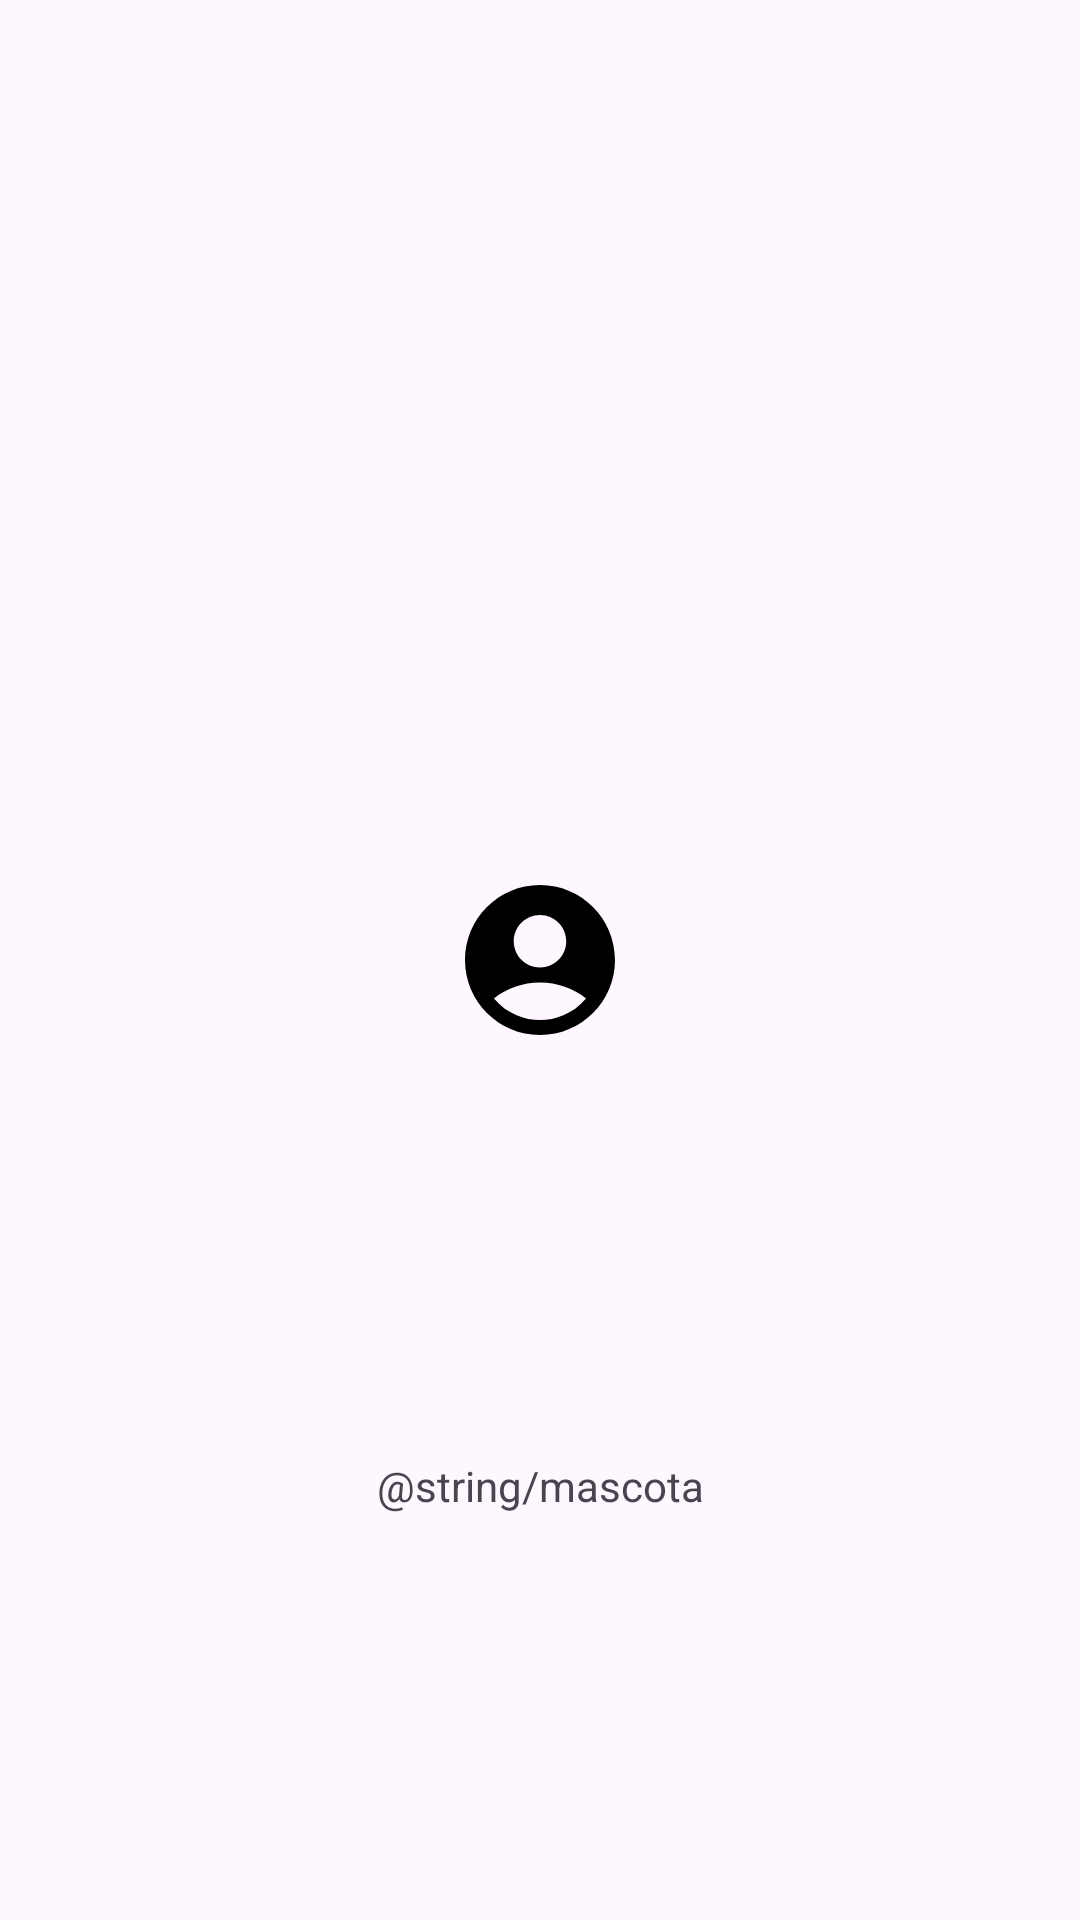

Screen size 1080px×1920px. Icon name, then its box in pixels as (x1, y1, x2, y2):
account: (465, 885, 615, 1035)
